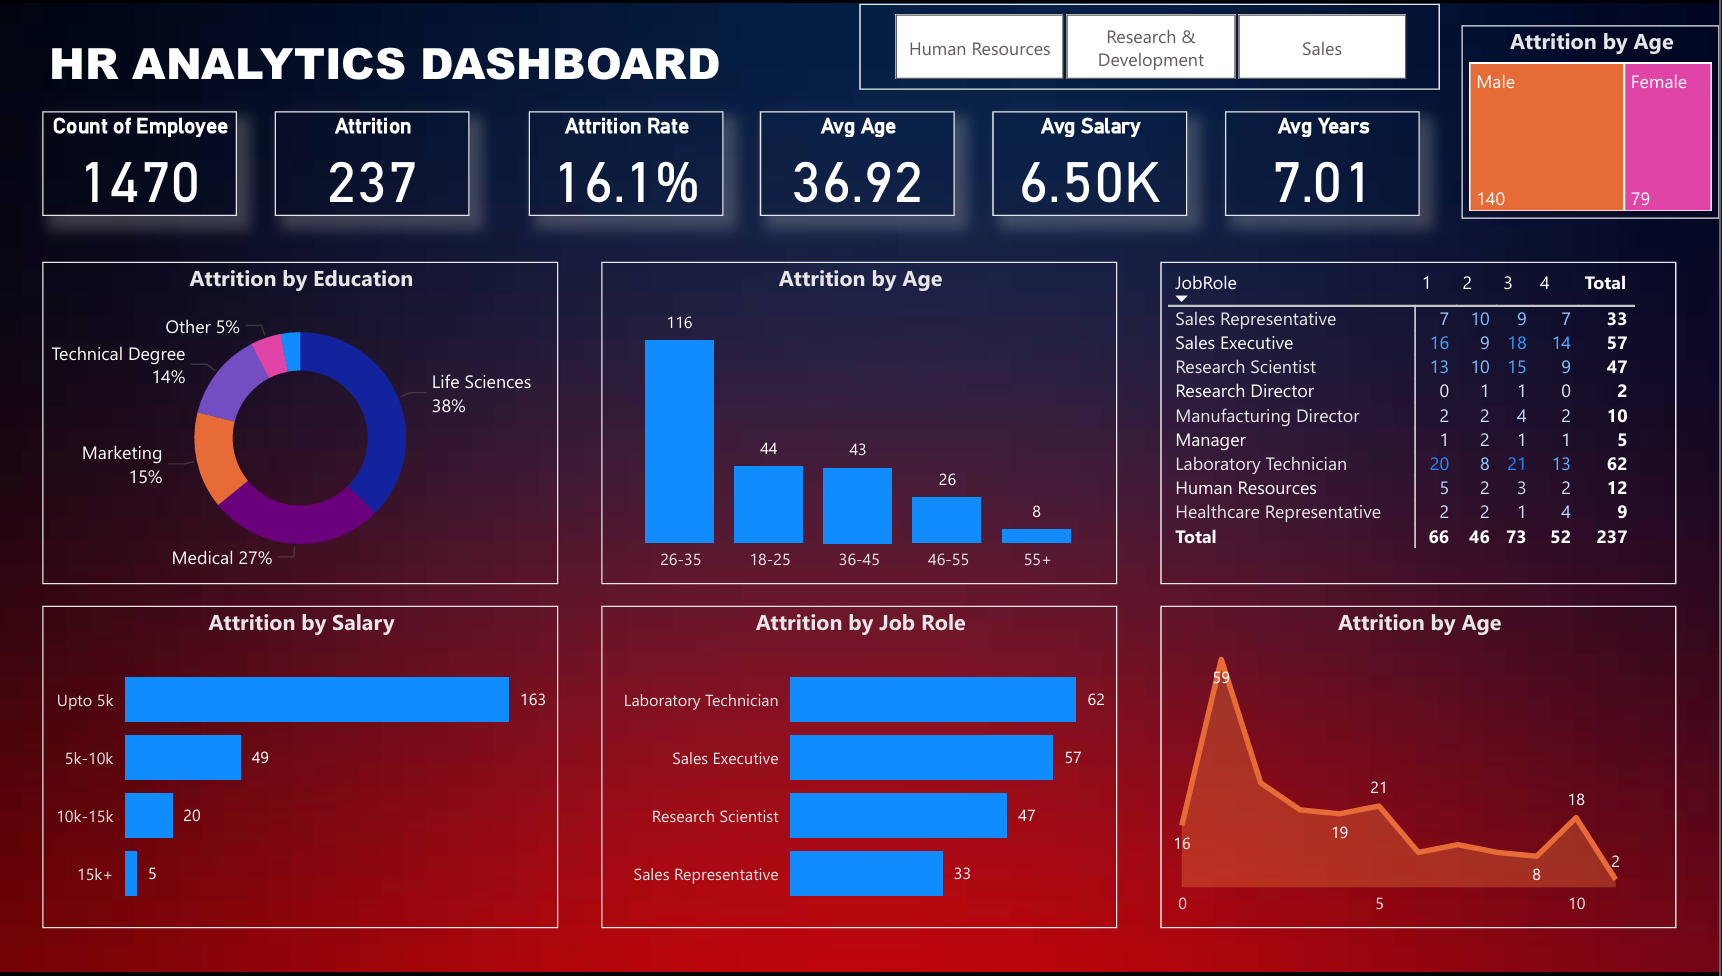

This screenshot's page, from the dashboard's own definition file:
{"tool":"powerbi","page":{"name":"Page 1","canvas":[1280,720],"ordinal":0},"visuals":[{"type":"card","title":"Count of Employee","fields":{"Values":["CountNonNull(HR_Analytics.EmpID)"]},"box":[32,80,145,78],"z":0},{"type":"card","title":"Attrition","fields":{"Values":["Sum(HR_Analytics.AttritionCount)"]},"box":[204.8,80,145,78],"z":1000},{"type":"card","title":"Attrition Rate","fields":{"Values":["HR_Analytics.AttritionRate"]},"box":[393.6,80,145,78],"z":2000},{"type":"card","title":"Avg Age","fields":{"Values":["Avg(HR_Analytics.Age)"]},"box":[566.4,80,145,78],"z":3000},{"type":"card","title":"Avg Years","fields":{"Values":["Avg(HR_Analytics.YearsAtCompany)"]},"box":[912,80,145,78],"z":4000},{"type":"card","title":"Avg Salary","fields":{"Values":["Avg(HR_Analytics.MonthlyIncome)"]},"box":[739.2,80,145,78],"z":5000},{"type":"donutChart","title":"Attrition by Education","fields":{"Category":["HR_Analytics.EducationField"],"Y":["Sum(HR_Analytics.AttritionCount)"]},"box":[32,192,384,240],"z":6000},{"type":"columnChart","title":"Attrition by Age","fields":{"Category":["HR_Analytics.AgeGroup"],"Y":["Sum(HR_Analytics.AttritionCount)"]},"box":[448,192,384,240],"z":7000},{"type":"pivotTable","fields":{"Rows":["HR_Analytics.JobRole"],"Columns":["HR_Analytics.JobSatisfaction"],"Values":["Sum(HR_Analytics.AttritionCount)"]},"box":[864,192,384,240],"z":8000},{"type":"clusteredBarChart","title":"Attrition by Salary","fields":{"Category":["HR_Analytics.SalarySlab"],"Y":["Sum(HR_Analytics.AttritionCount)"]},"box":[32,448,384,240],"z":9000},{"type":"clusteredBarChart","title":"Attrition by Job Role","fields":{"Category":["HR_Analytics.JobRole"],"Y":["Sum(HR_Analytics.AttritionCount)"]},"box":[448,448,384,240],"z":10000},{"type":"areaChart","title":"Attrition by Age","fields":{"Category":["HR_Analytics.YearsAtCompany"],"Y":["Sum(HR_Analytics.AttritionCount)"]},"box":[864,448,384,240],"z":11000},{"type":"treemap","title":"Attrition by Age","fields":{"Group":["HR_Analytics.Gender"],"Values":["Sum(HR_Analytics.AttritionCount)"]},"box":[1088,16,192,144],"z":12000},{"type":"slicer","fields":{"Values":["HR_Analytics.Department"]},"box":[640,0,432,64],"z":13000},{"type":"textbox","box":[32,16,528,64],"z":14000}]}

Visuals, with their boxes in screenshot pixels (x1, y1, x2, y2), scaled from the page's 1280x720 canvas onto the 1722x976 screenshot:
"Count of Employee" card: (x1=43, y1=108, x2=238, y2=214)
"Attrition" card: (x1=276, y1=108, x2=471, y2=214)
"Attrition Rate" card: (x1=530, y1=108, x2=725, y2=214)
"Avg Age" card: (x1=762, y1=108, x2=957, y2=214)
"Avg Years" card: (x1=1227, y1=108, x2=1422, y2=214)
"Avg Salary" card: (x1=994, y1=108, x2=1190, y2=214)
"Attrition by Education" donutChart: (x1=43, y1=260, x2=560, y2=586)
"Attrition by Age" columnChart: (x1=603, y1=260, x2=1119, y2=586)
pivotTable - HR_Analytics.JobRole x HR_Analytics.JobSatisfaction: (x1=1162, y1=260, x2=1679, y2=586)
"Attrition by Salary" clusteredBarChart: (x1=43, y1=607, x2=560, y2=933)
"Attrition by Job Role" clusteredBarChart: (x1=603, y1=607, x2=1119, y2=933)
"Attrition by Age" areaChart: (x1=1162, y1=607, x2=1679, y2=933)
"Attrition by Age" treemap: (x1=1464, y1=22, x2=1721, y2=217)
slicer - HR_Analytics.Department: (x1=861, y1=0, x2=1442, y2=87)
textbox: (x1=43, y1=22, x2=753, y2=108)
